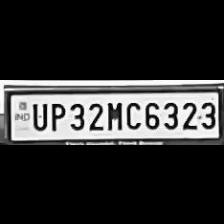2: (86, 97, 104, 129), (180, 97, 198, 128)
3: (66, 98, 86, 130), (160, 97, 178, 128), (198, 97, 216, 128)
6: (142, 97, 160, 128)
C: (124, 97, 140, 128)
M: (103, 97, 123, 129)
P: (46, 98, 66, 130)
U: (28, 98, 46, 130)
